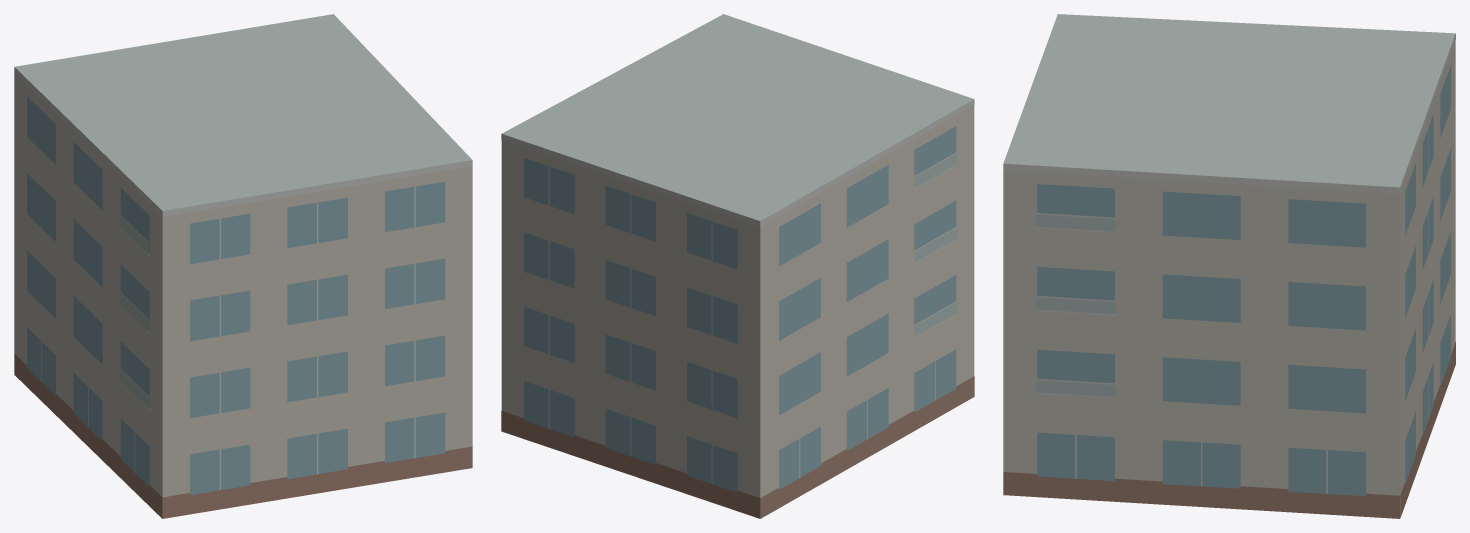
Rendered from survey-upis-32982698.glb.
The picture shows the model from 3 angles, left to right: view 1: azimuth 30°, elevation 25°; view 2: azimuth 150°, elevation 25°; view 3: azimuth 270°, elevation 25°; orthographic projection. The views are drawn at different scales.
Visible parts, largest first — view 1: survey-upis-32982698.tmp; view 2: survey-upis-32982698.tmp; view 3: survey-upis-32982698.tmp.
Boxes of the visible parts, x1,y1,x2,y2 form: survey-upis-32982698.tmp: (14, 14, 472, 518); survey-upis-32982698.tmp: (501, 14, 974, 518); survey-upis-32982698.tmp: (1003, 14, 1455, 518).
Bounding box in the file's own units: 14.04 × 12.5 × 15.47.
